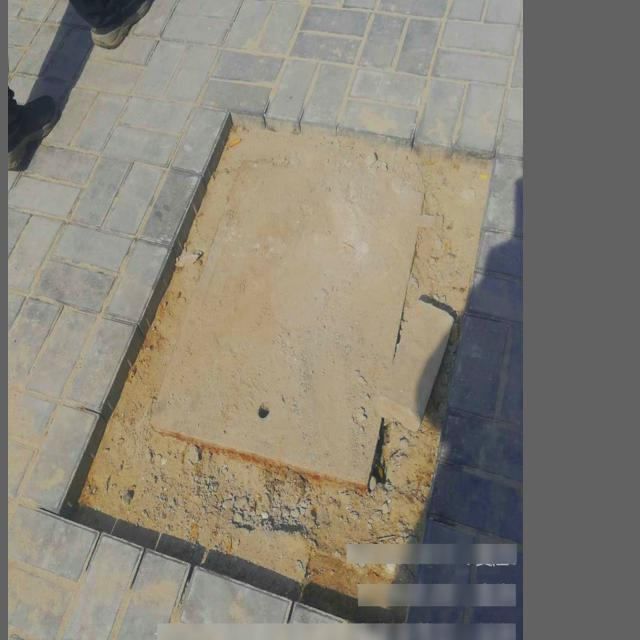circle: (65, 131, 495, 566)
